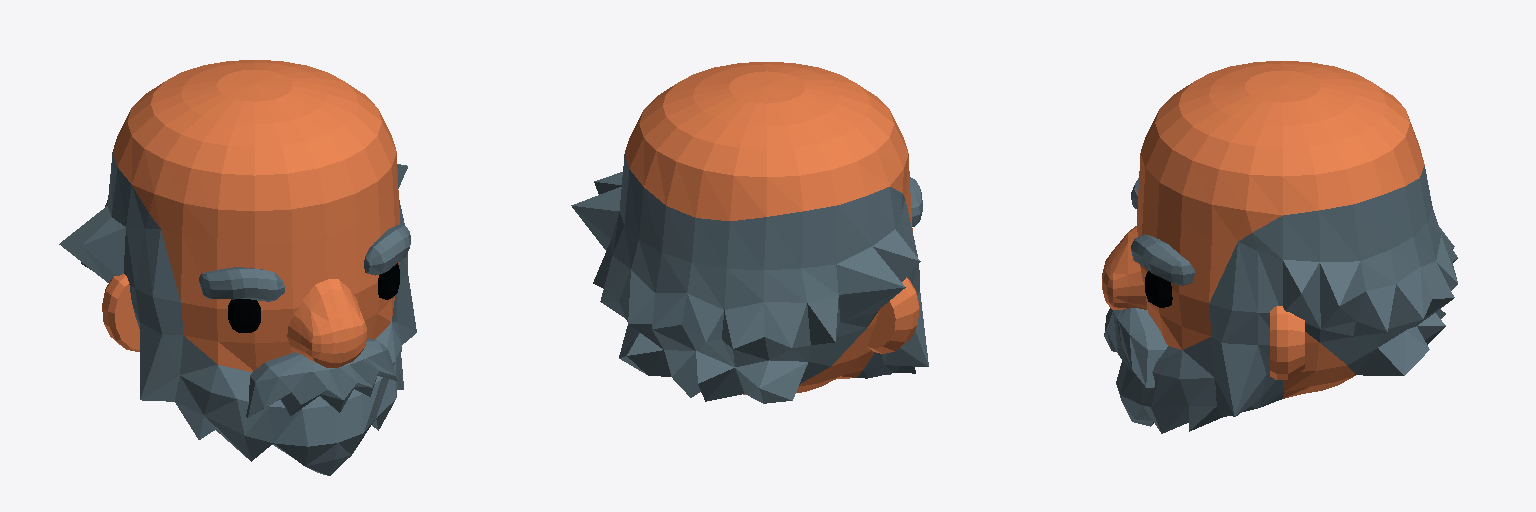
The model's file is character_fishermanHead.obj.
3 renders of one model, left to right at view 1: azimuth 30°, elevation 25°; view 2: azimuth 150°, elevation 25°; view 3: azimuth 270°, elevation 25°, orthographic.
Parts seen in each view (by area): view 1: character_fishermanHead_Cube.116; view 2: character_fishermanHead_Cube.116; view 3: character_fishermanHead_Cube.116.
Boxes of the visible parts, <box> form: character_fishermanHead_Cube.116: <box>59,60,416,475</box>; character_fishermanHead_Cube.116: <box>571,62,928,403</box>; character_fishermanHead_Cube.116: <box>1102,61,1457,433</box>.
Size of the model in its own units: 1.31 by 1.28 by 1.21.